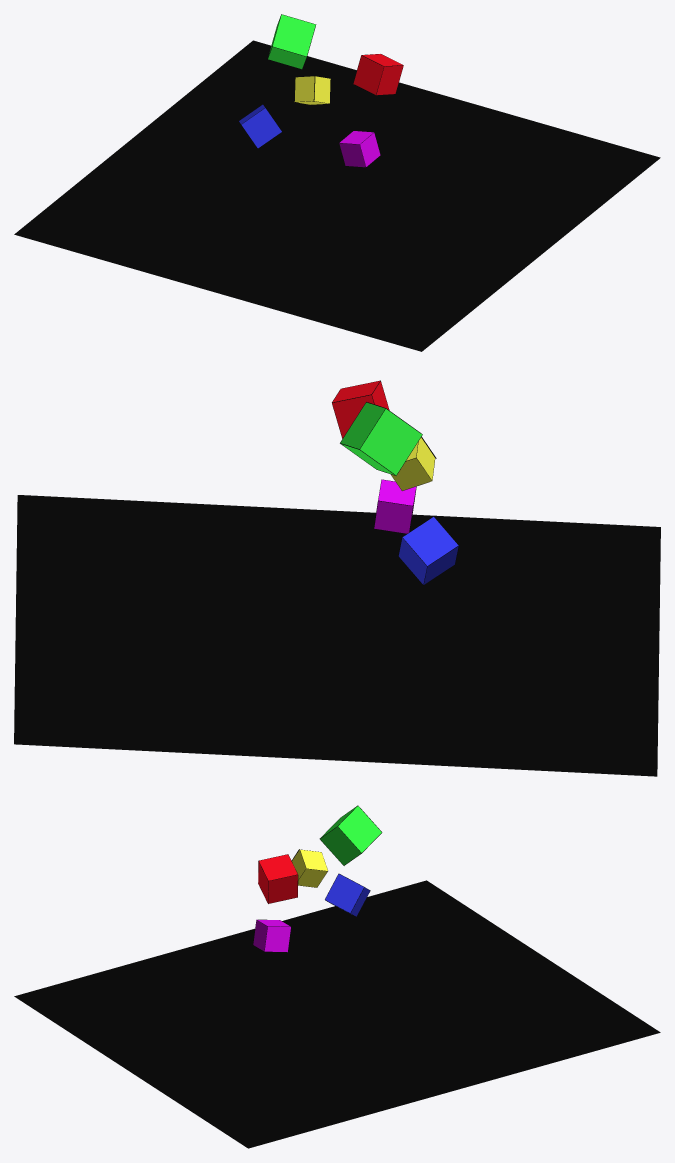
File: Grosse_Wuerfel_volume.glb
3 renders of one model, top to bottom at view 1: azimuth 30°, elevation 25°; view 2: azimuth 150°, elevation 25°; view 3: azimuth 270°, elevation 25°, orthographic. The views are drawn at different scales.
Visible parts, largest first — view 1: p.0221, s.0196, s.0163, s.0180, s.0181, s.0191, s.0169; view 2: p.0221, s.0189, s.0156, s.0211, s.0188, s.0178, s.0167, s.0216, s.0160; view 3: p.0221, s.0188, s.0155, s.0192, s.0177, s.0185, s.0212.
Boxes of the visible parts, bbox=[...] form: p.0221: bbox=[14, 40, 660, 351]; s.0196: bbox=[273, 14, 315, 56]; s.0163: bbox=[241, 108, 281, 148]; s.0180: bbox=[353, 55, 383, 94]; s.0181: bbox=[376, 65, 403, 95]; s.0191: bbox=[268, 47, 306, 69]; s.0169: bbox=[294, 76, 314, 101]; p.0221: bbox=[14, 495, 660, 776]; s.0189: bbox=[360, 409, 422, 475]; s.0156: bbox=[402, 517, 458, 565]; s.0211: bbox=[374, 501, 412, 533]; s.0188: bbox=[340, 402, 384, 448]; s.0178: bbox=[332, 395, 373, 438]; s.0167: bbox=[391, 458, 431, 490]; s.0216: bbox=[378, 480, 416, 505]; s.0160: bbox=[398, 538, 426, 584]; p.0221: bbox=[14, 880, 660, 1148]; s.0188: bbox=[338, 806, 381, 852]; s.0155: bbox=[325, 874, 363, 912]; s.0192: bbox=[320, 826, 361, 865]; s.0177: bbox=[268, 875, 297, 903]; s.0185: bbox=[259, 854, 297, 880]; s.0212: bbox=[264, 926, 290, 952].
Size of what is drawn, in the model's own units: 8.27 by 2.9 by 8.26.
